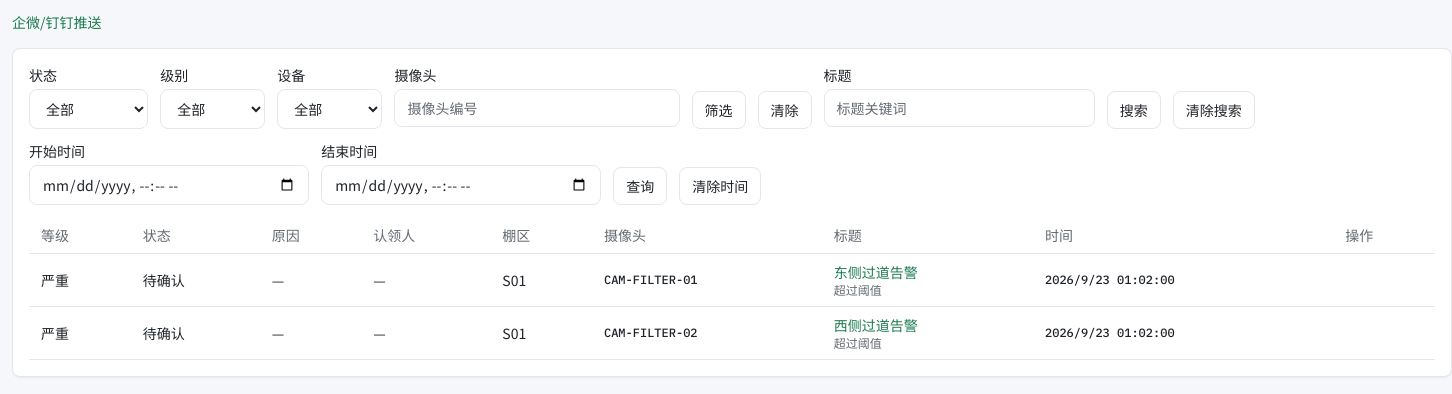
AlertsView › filters by camera code, keeps the detail link, and restores both cameras on clear
Expected: the elements with test id "alert-camera" read "CAM-FILTER-01", "CAM-FILTER-02", in this order, [592,254,822,306]; [592,306,822,360]
Expected: the number of links with test id "alert-detail-link" is 2, [834,262,918,282]; [834,315,918,335]
Type " CAM-FILTER-02 " into the field with test id "alert-camera-filter". click: (537, 108)
box: [394,89,680,127]
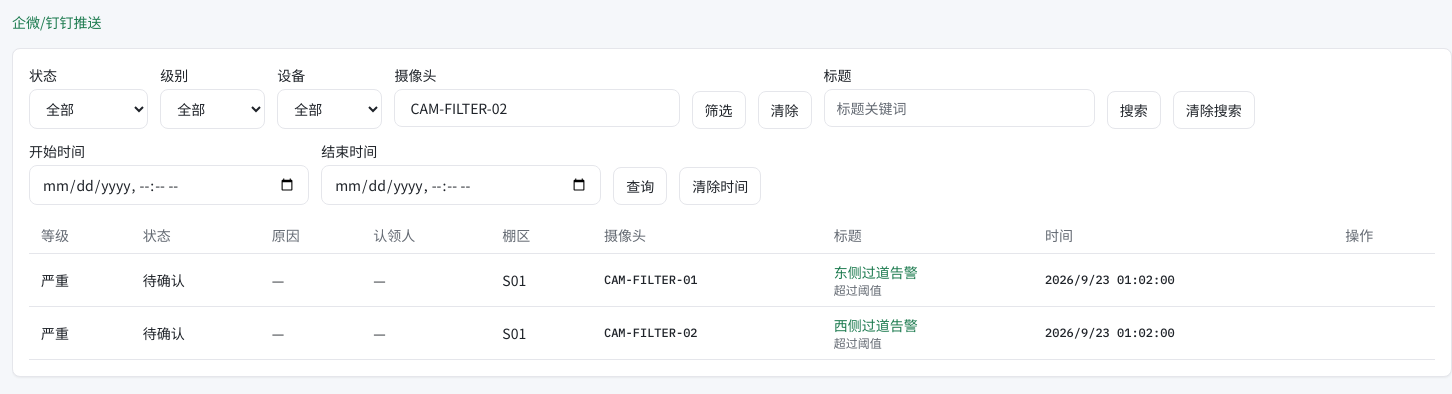
Click the button with test id "alert-camera-apply". click: (719, 110)
box: [692,91,746,129]
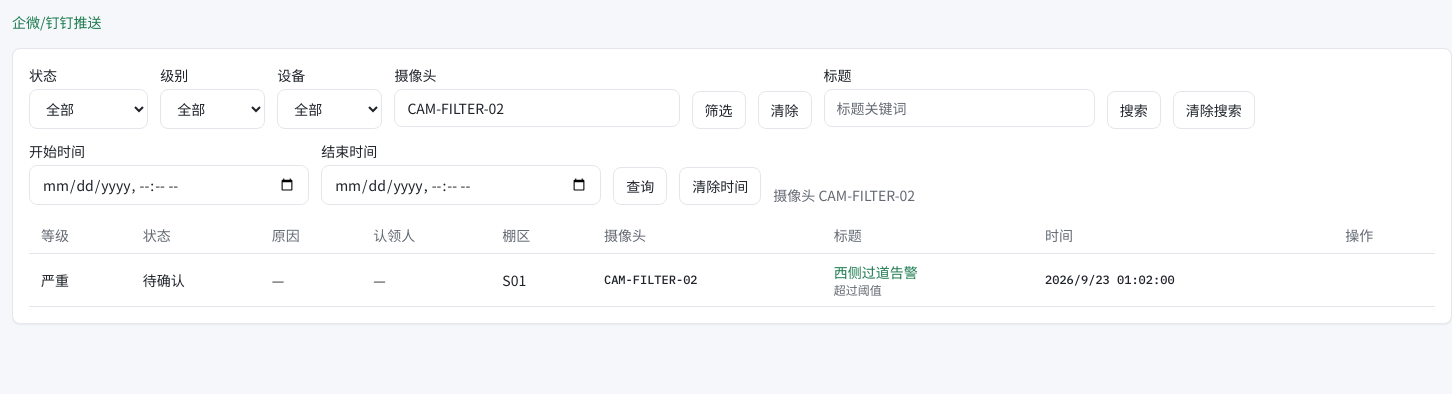
Result: the text with test id "alert-camera-scope" reads "摄像头 CAM-FILTER-02" at [773,185,915,205]
Result: the elements with test id "alert-camera" read "CAM-FILTER-02", in this order at [592,254,822,306]
Result: the text "东侧过道告警" is gone
Select "待确认" in the dropdown with test id "alert-status-filter". click: (89, 109)
box: [29,89,148,129]
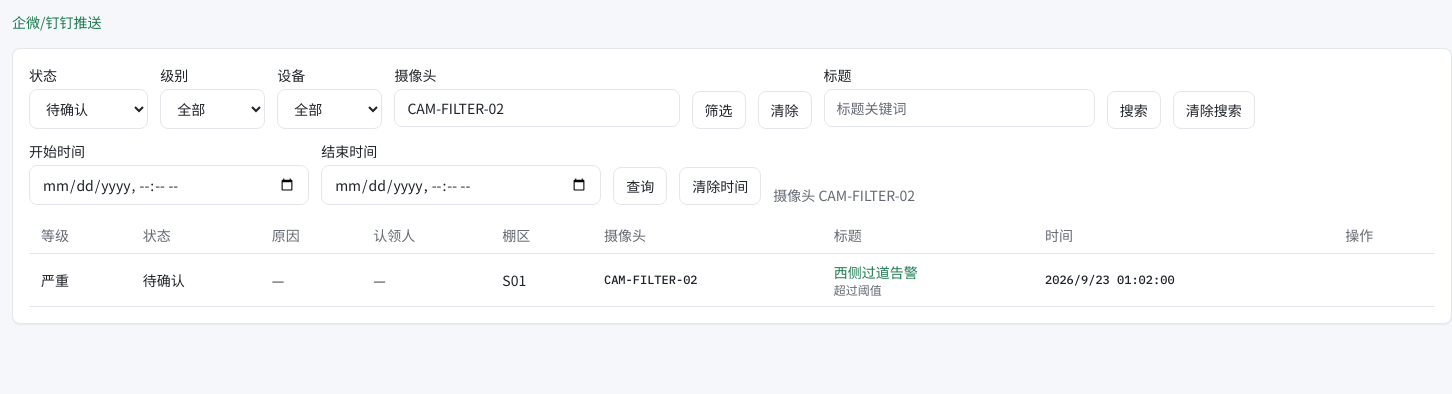
Click the button with test id "alert-camera-clear". click: (785, 110)
box: [758,91,812,129]
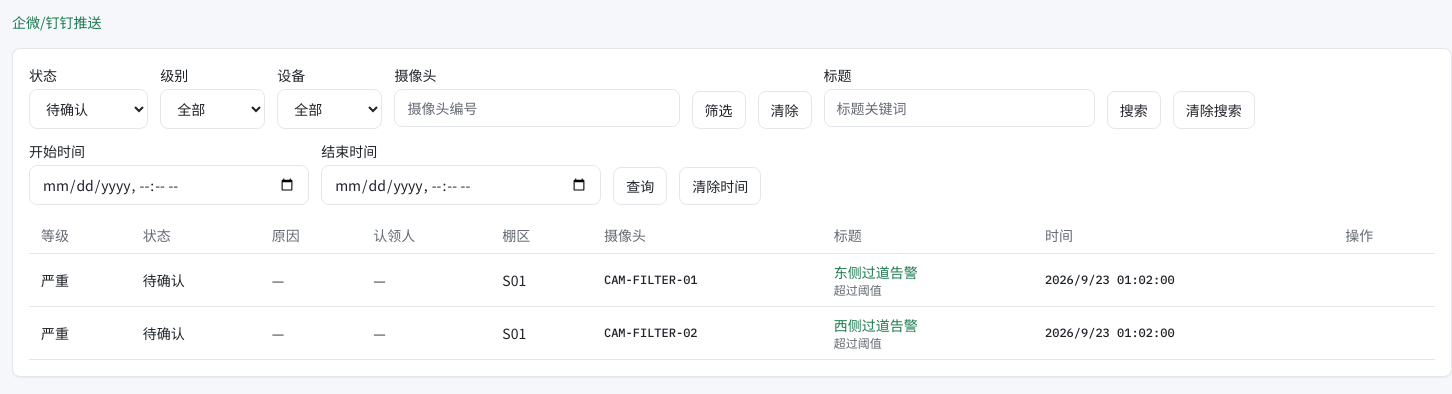
Result: the elements with test id "alert-camera" read "CAM-FILTER-01", "CAM-FILTER-02", in this order at [592,254,822,306]; [592,306,822,360]
Result: the number of links with test id "alert-detail-link" is 2 at [834,262,918,282]; [834,315,918,335]
